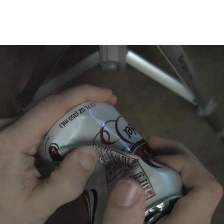can: (33, 93, 184, 223)
